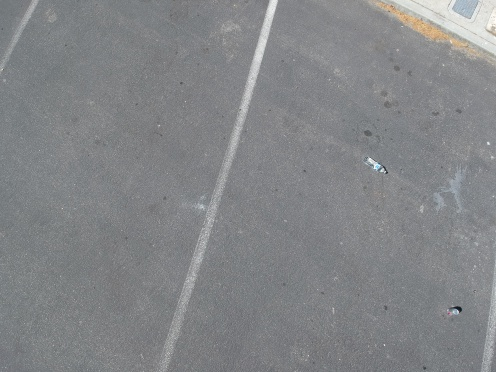bottle: (358, 151, 392, 177)
can: (440, 301, 463, 324)
